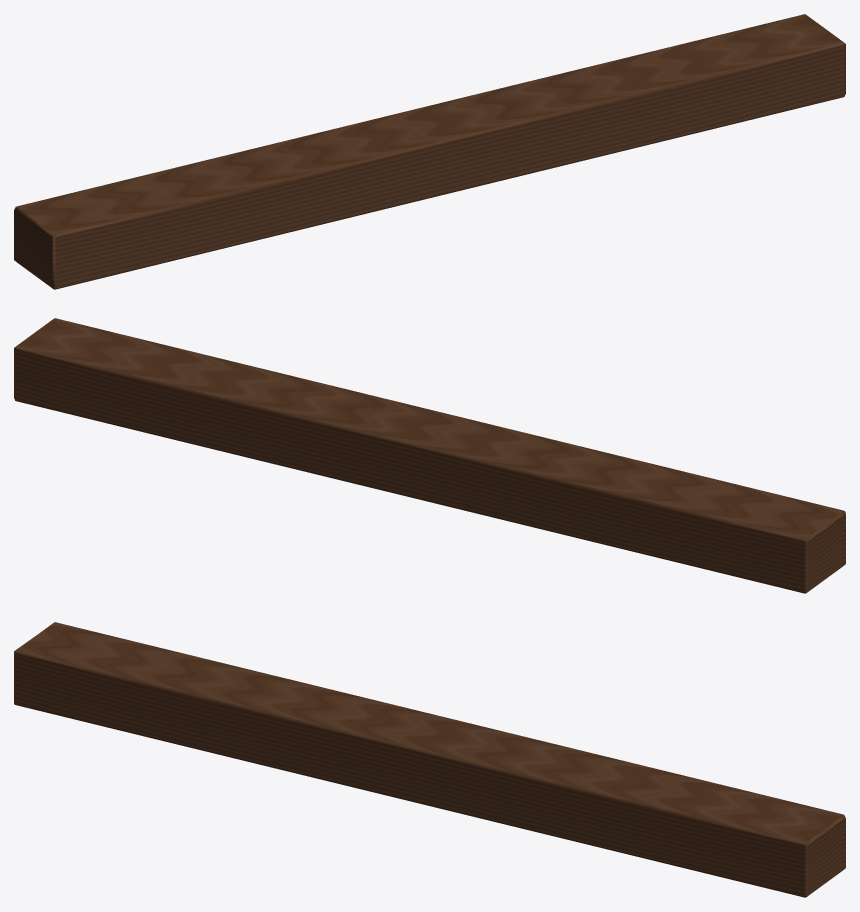
Rendered from sill.gltf.
3 renders of one model, top to bottom at view 1: azimuth 30°, elevation 25°; view 2: azimuth 150°, elevation 25°; view 3: azimuth 330°, elevation 25°, orthographic.
Bounding box in the file's own units: 1.8 × 0.12 × 0.16.
1 material, 1 textured.
